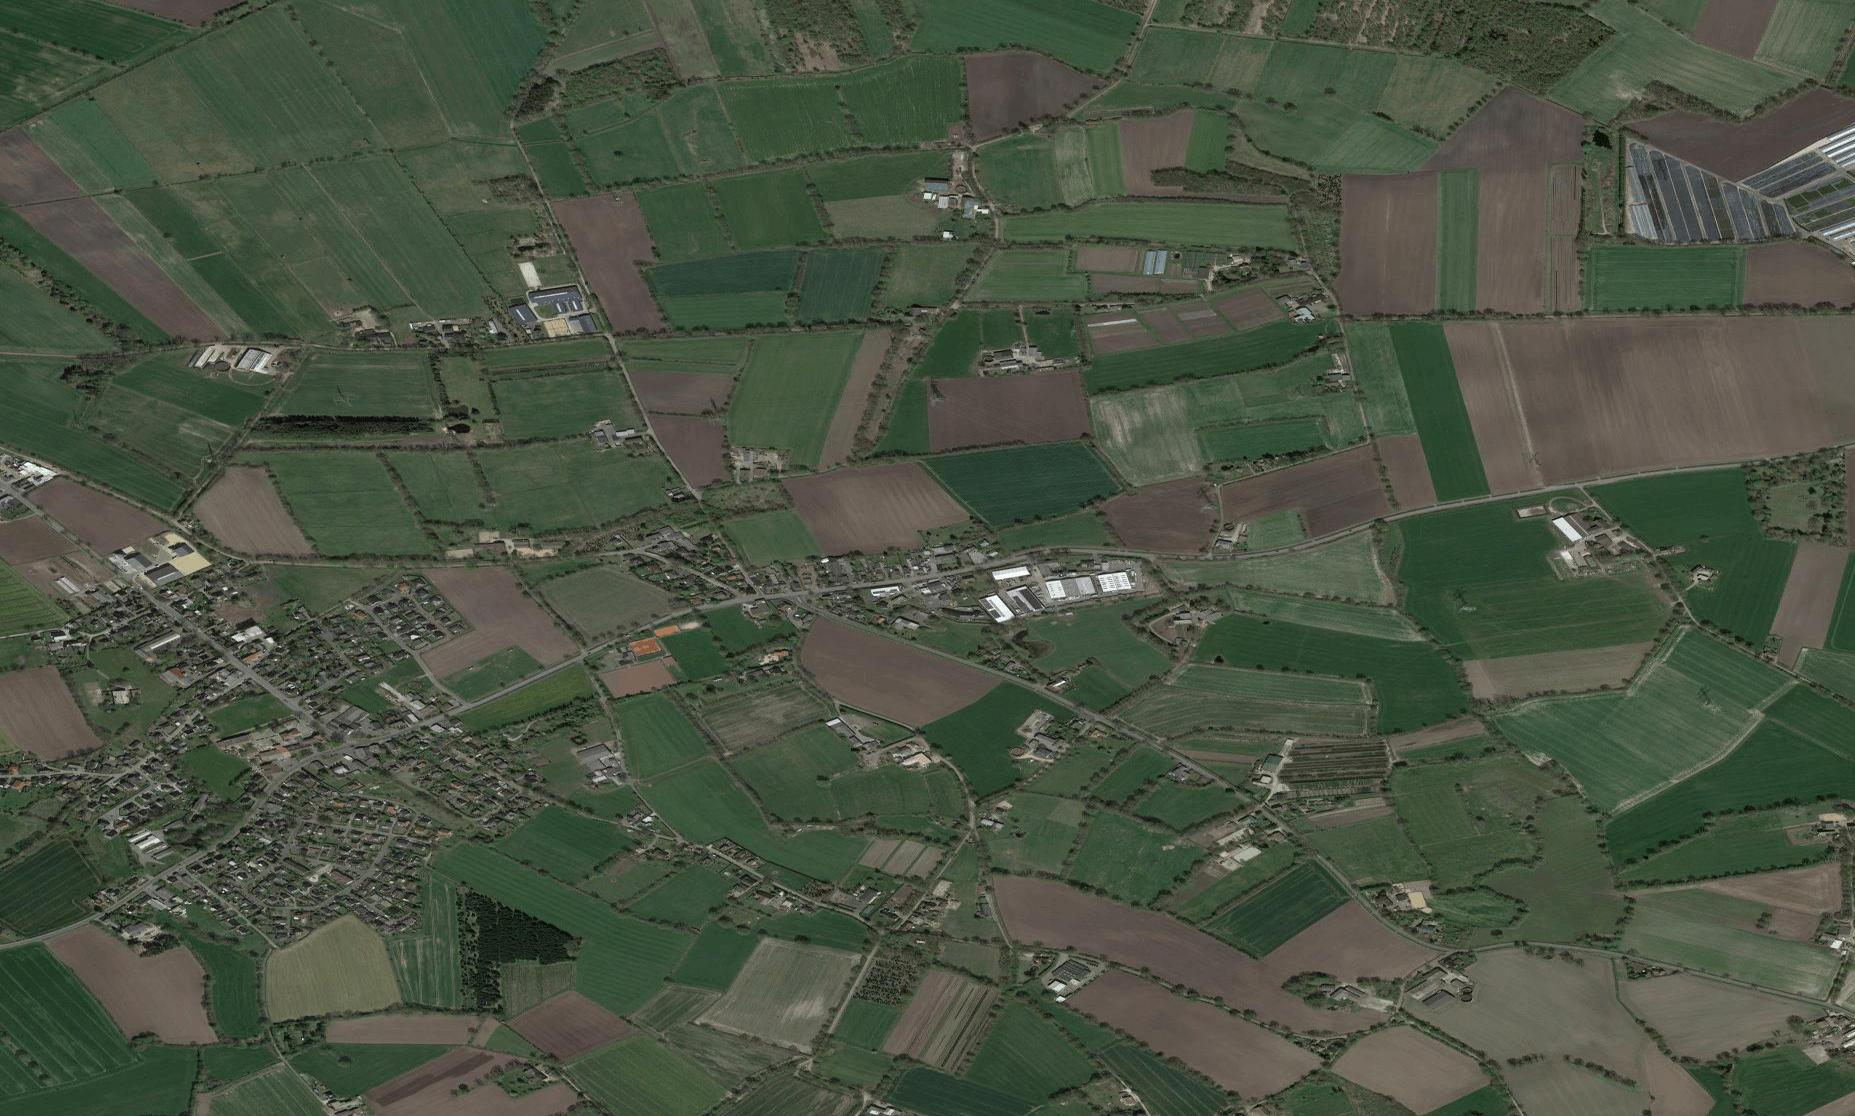industrial: (957, 555, 1147, 626)
